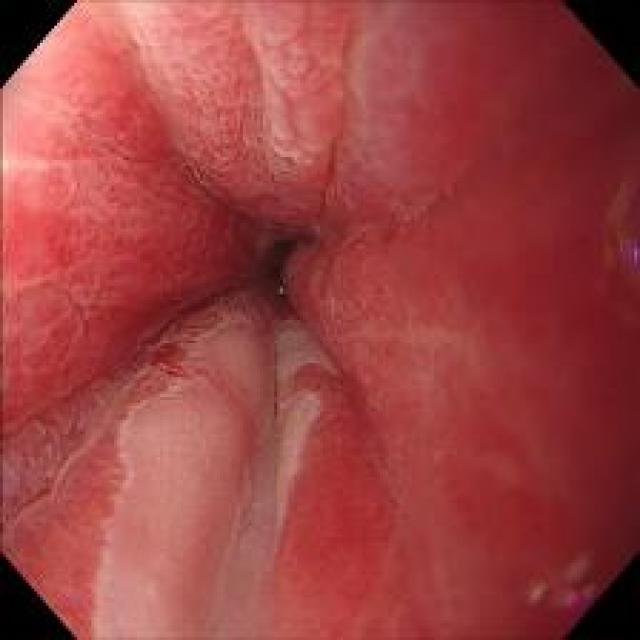color misalignment: (525, 552, 595, 612), (608, 170, 638, 272)
